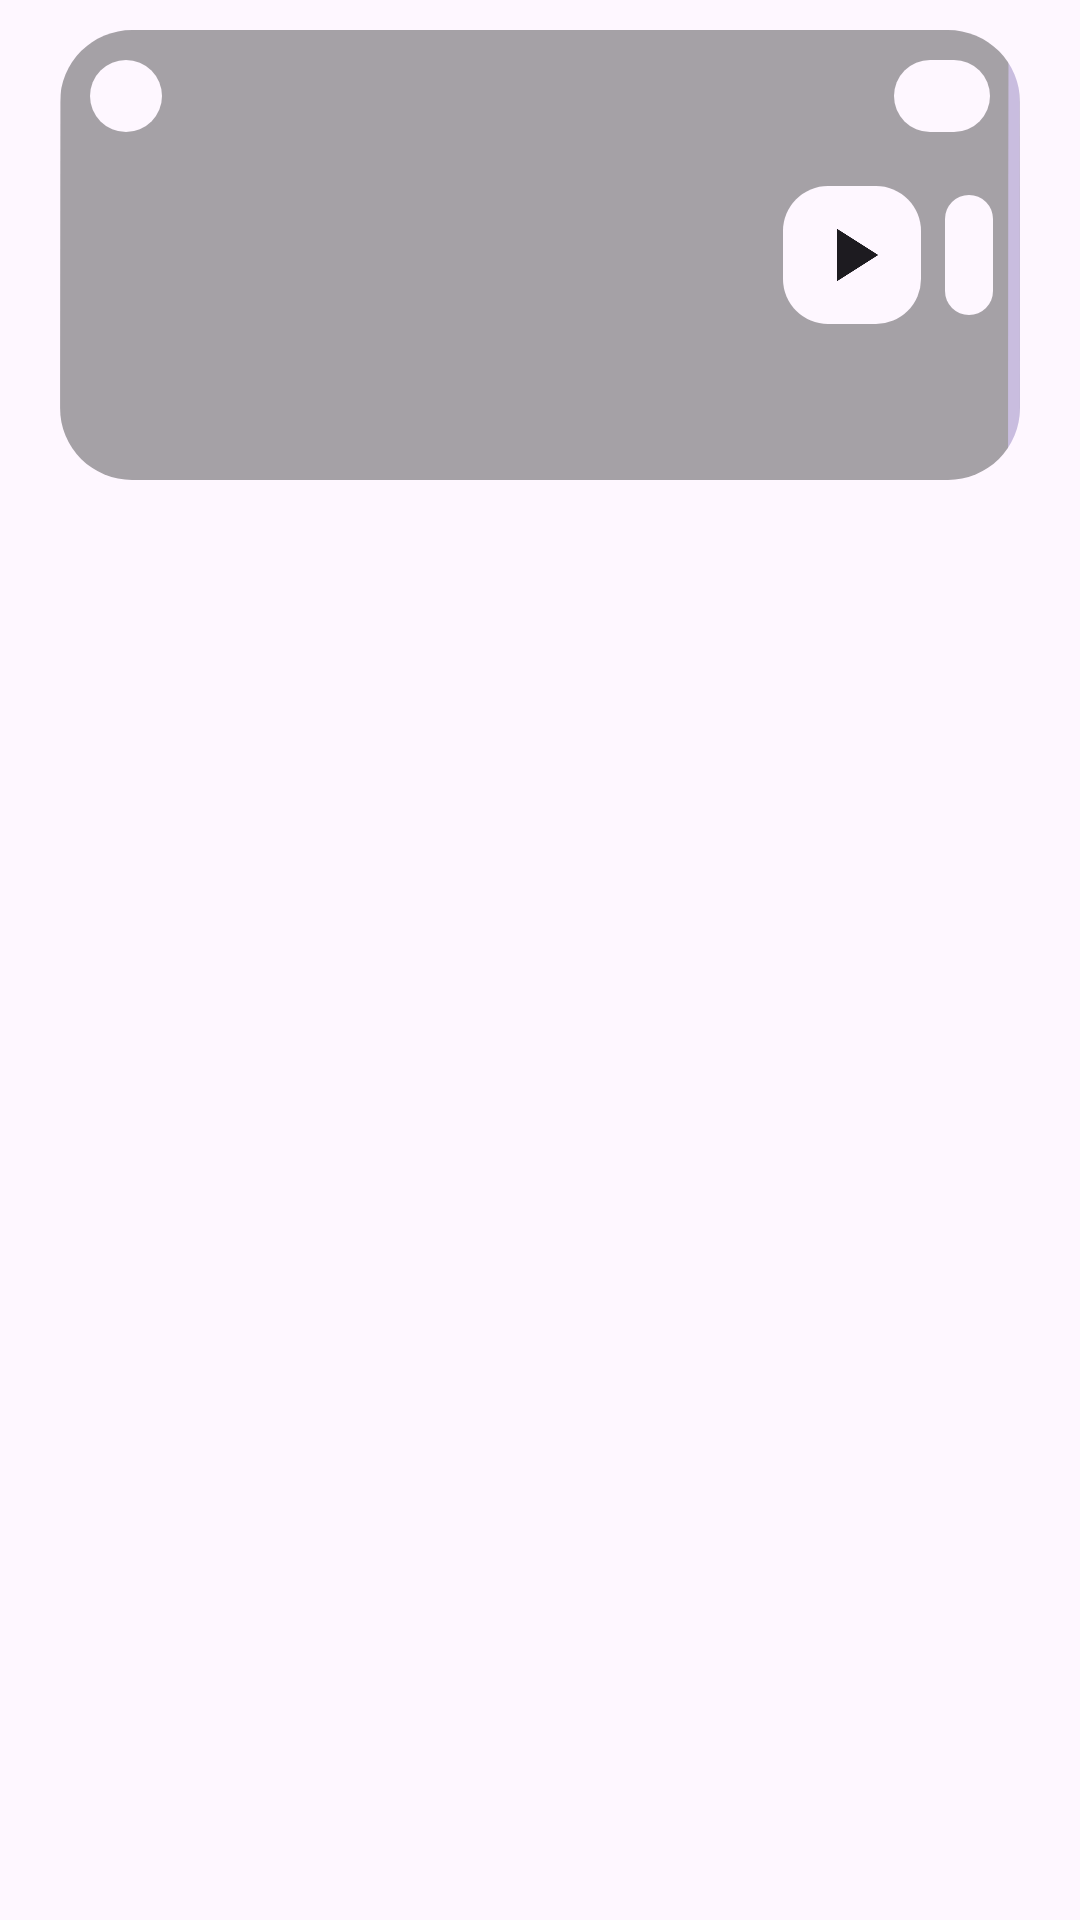

Icons on this 1080×1920 Android screen, each with the point to tap as (x=x, y=y):
Resume: (x=852, y=255)
